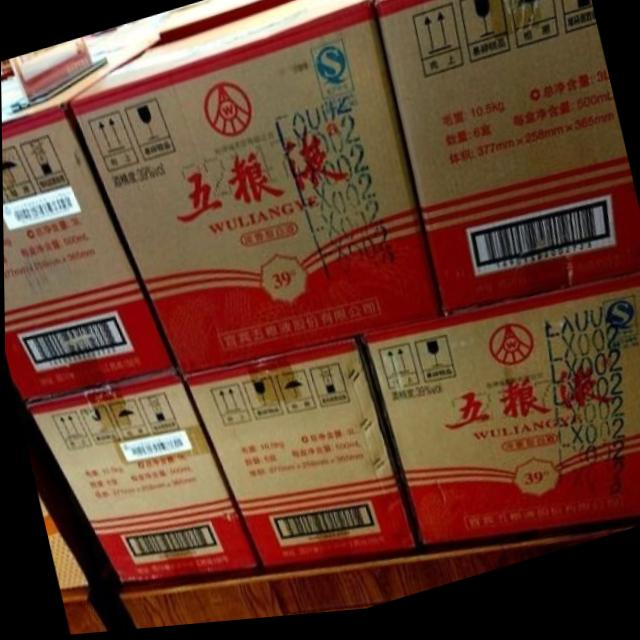box: (68, 0, 441, 377), (377, 0, 640, 319), (366, 286, 640, 550), (1, 39, 173, 401), (183, 343, 420, 572), (24, 374, 256, 584), (161, 0, 290, 42), (37, 493, 89, 591)
